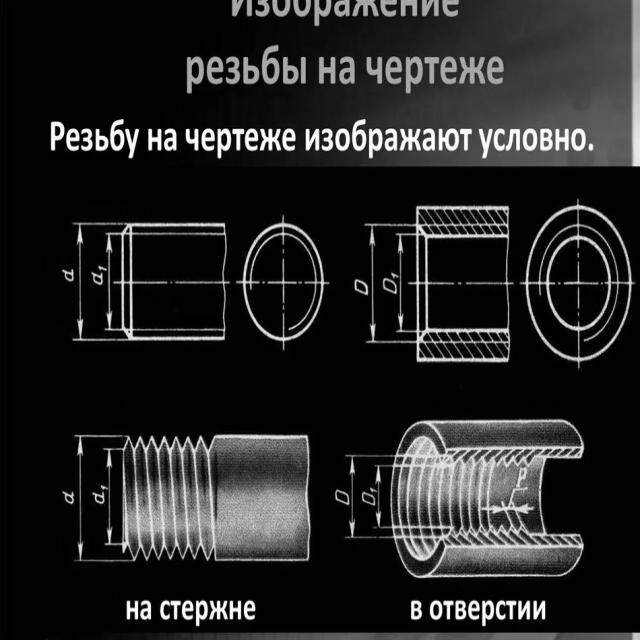marking_line: (360, 220, 417, 346), (71, 433, 122, 567), (70, 219, 122, 344), (343, 451, 392, 543), (395, 229, 417, 337), (103, 231, 121, 332), (102, 447, 120, 546), (375, 463, 390, 530)
numeric: (97, 264, 109, 275), (367, 487, 379, 497), (101, 482, 110, 494), (389, 271, 400, 280)
